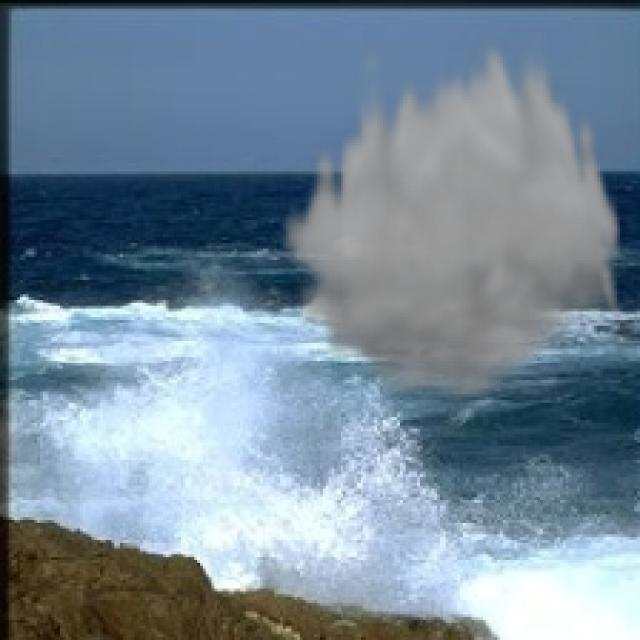smoke: (277, 29, 626, 408)
